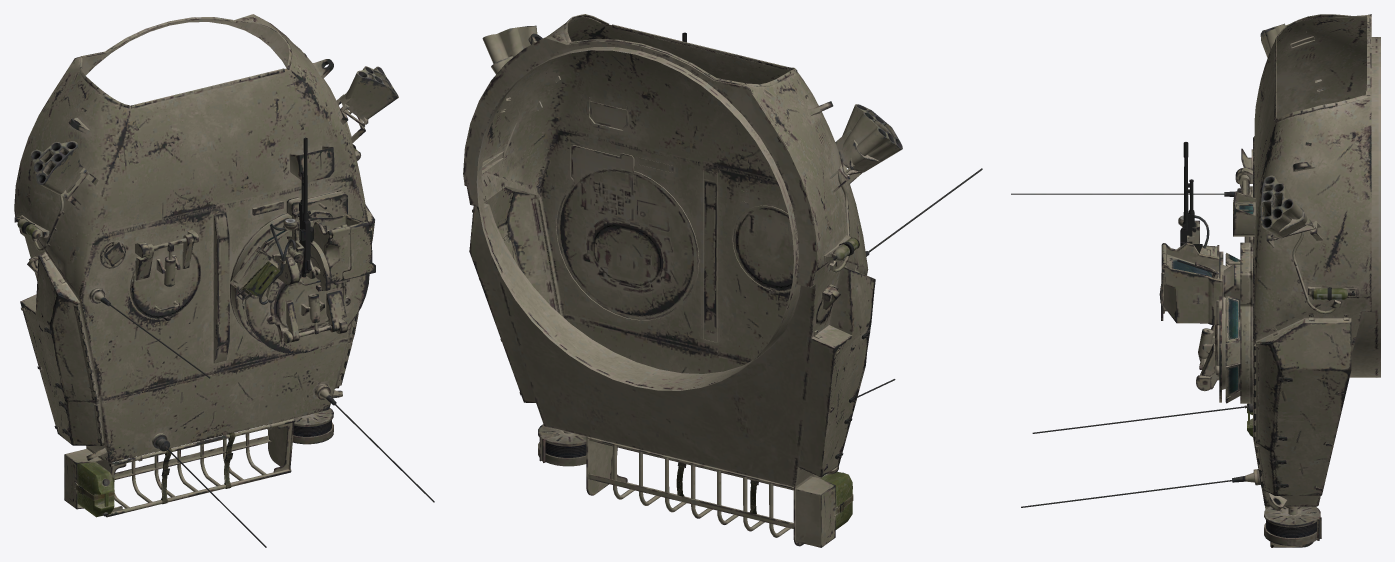
Rendered from Turret_01.glb.
3 renders of one model, left to right at view 1: azimuth 30°, elevation 25°; view 2: azimuth 150°, elevation 25°; view 3: azimuth 270°, elevation 25°, orthographic. The views are drawn at different scales.
Visible parts, largest first — view 1: set_0_group_0; view 2: set_0_group_0; view 3: set_0_group_0.
Part boxes in pixels (x1,y1,x2,y2): set_0_group_0: (14, 14, 434, 547); set_0_group_0: (463, 14, 982, 547); set_0_group_0: (1011, 14, 1380, 547).
Size of the model in its own units: 3.04 by 3.51 by 2.54.
Materials: 1 (1 with a texture image).
